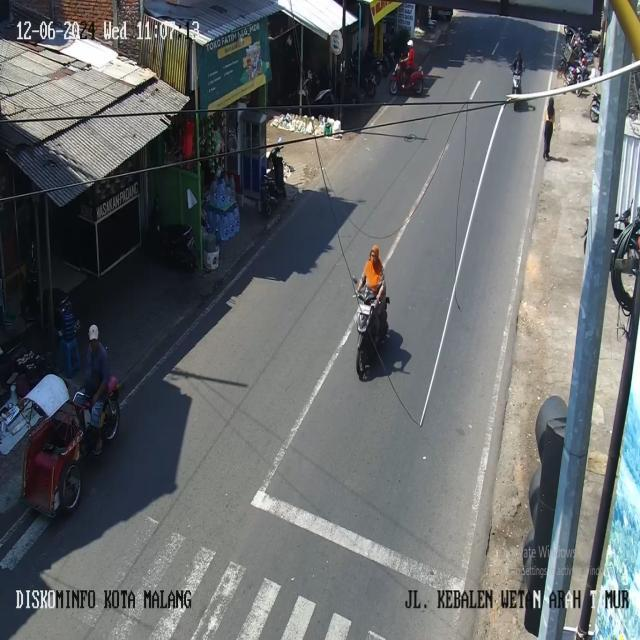Helmet: (88, 324, 99, 341), (407, 40, 413, 46)
